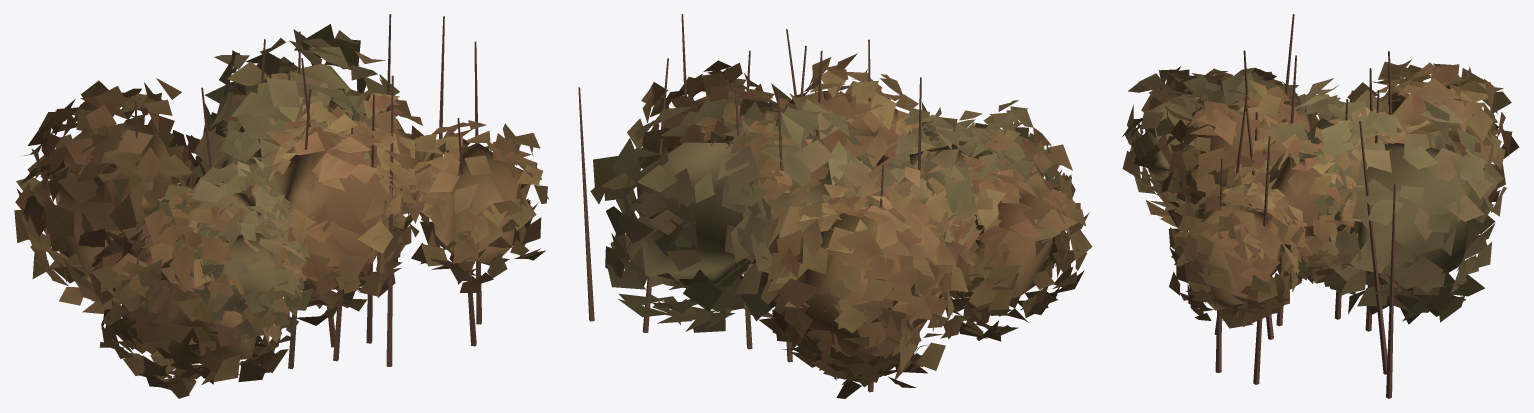
Rendered from matorral_a.glb.
3 renders of one model, left to right at view 1: azimuth 30°, elevation 25°; view 2: azimuth 150°, elevation 25°; view 3: azimuth 270°, elevation 25°, orthographic. The views are drawn at different scales.
Parts seen in each view (by area): view 1: MatorralAHojas, MatorralACopa, MatorralAVarillas; view 2: MatorralAHojas, MatorralACopa, MatorralAVarillas; view 3: MatorralAHojas, MatorralACopa, MatorralAVarillas.
Boxes of the visible parts, <box> form: MatorralAHojas: <box>14,24,548,398</box>; MatorralACopa: <box>50,63,522,365</box>; MatorralAVarillas: <box>134,14,481,369</box>; MatorralAHojas: <box>590,53,1092,398</box>; MatorralACopa: <box>636,87,1053,358</box>; MatorralAVarillas: <box>578,14,921,392</box>; MatorralAHojas: <box>1121,59,1519,328</box>; MatorralACopa: <box>1146,93,1491,310</box>; MatorralAVarillas: <box>1214,14,1395,398</box>.
Bounding box in the file's own units: 3.14 × 1.9 × 2.64.
